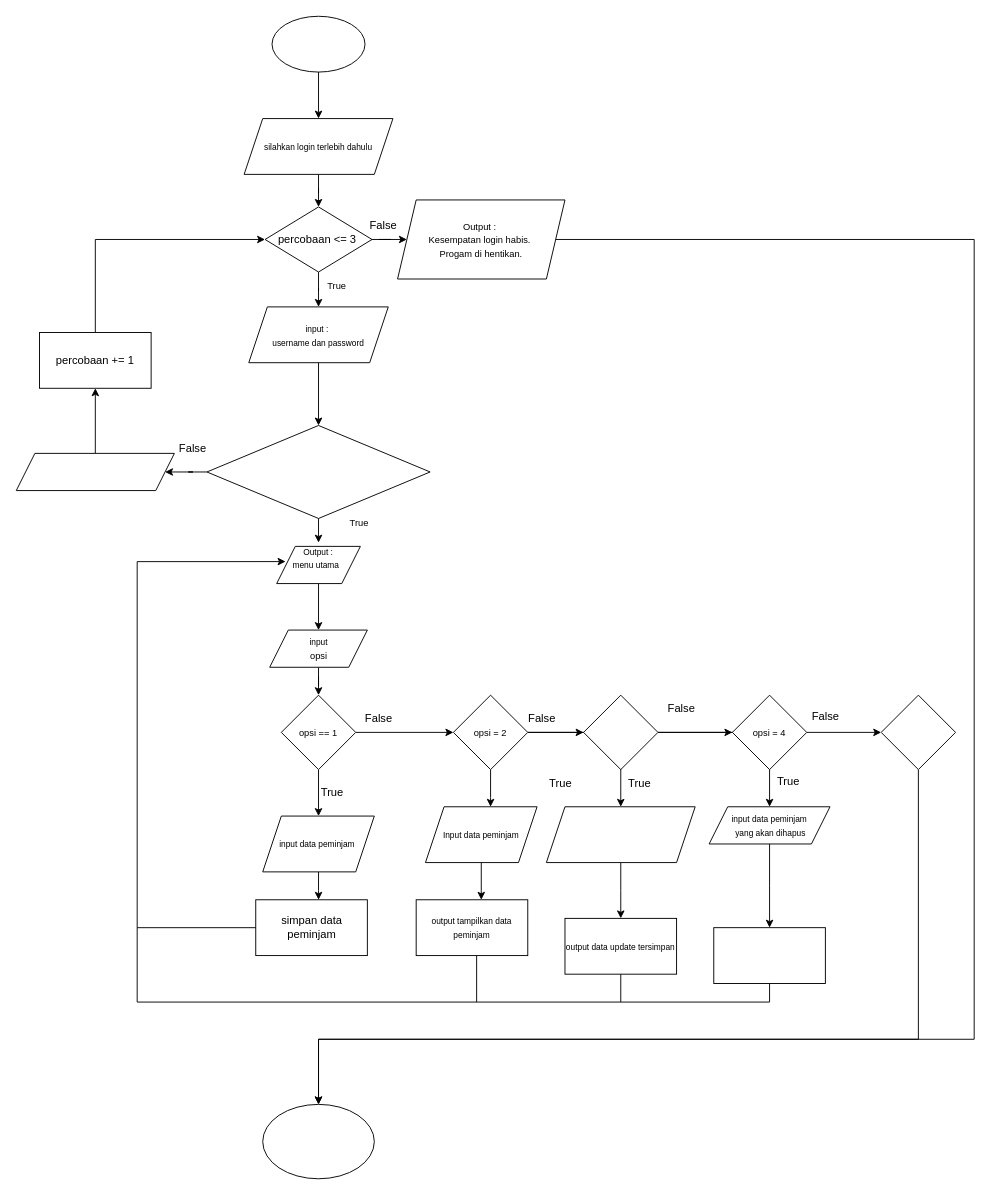
Image size: 998x1195. Some labels were removed from this diagram. The shapes that lost their labels are listed below. From the top down, each one's centre as x and y in pixels, then its label:
[318,43]: star
[94,471]: Output : Login gagal silahkan coba lagi
[318,471]: username == "Kikania" and password == "086"
[620,732]: opsi = 3
[918,732]: opsi = 5
[620,834]: input update data peminjam
[769,955]: output data peminjam telah di hapus
[318,1141]: End
